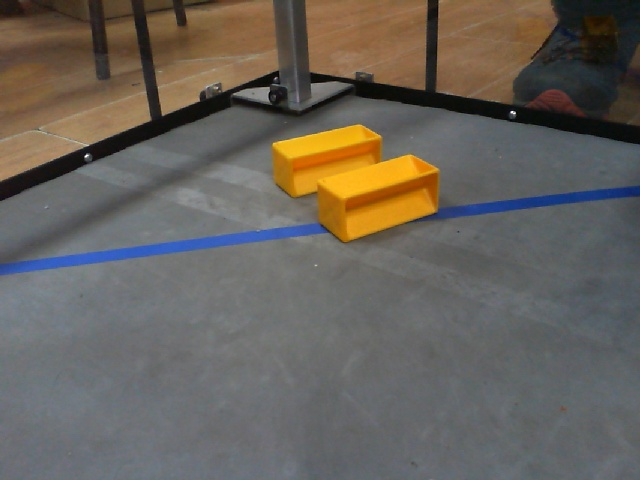YellowSample: (310, 151, 444, 244), (267, 118, 384, 198)
